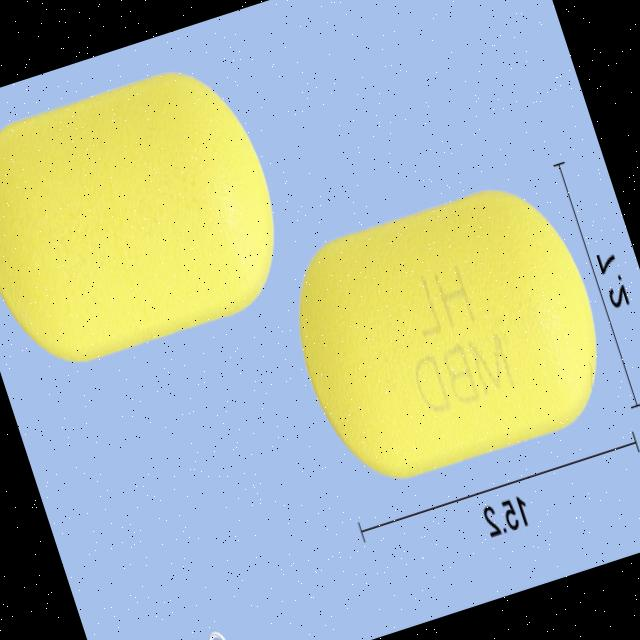Mabid -500mg: (272, 172, 624, 500), (0, 51, 304, 385)
